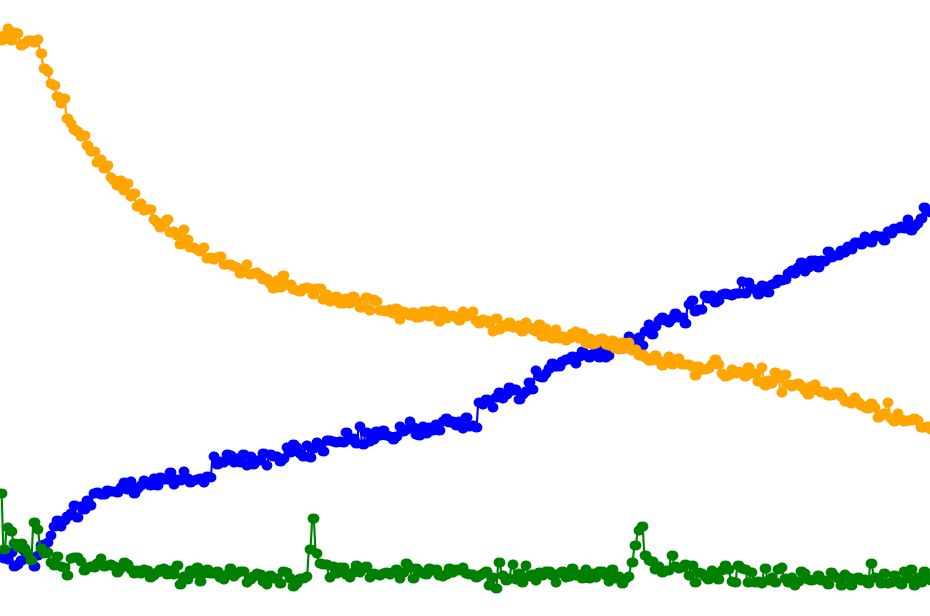Condensation (CO2): (79, 0, 159, 616), (159, 0, 239, 616)
High CO2: (797, 0, 930, 616)
High O2: (318, 0, 677, 616), (797, 0, 930, 616), (677, 0, 797, 616)
Low CO2: (318, 0, 677, 616), (677, 0, 797, 616)
Low O2: (677, 0, 930, 616)
Normal: (318, 0, 930, 616), (79, 0, 677, 616), (677, 0, 930, 616), (79, 0, 318, 616), (0, 0, 159, 616), (159, 0, 318, 616), (797, 0, 930, 616), (79, 0, 159, 616), (159, 0, 239, 616), (0, 0, 79, 616), (239, 0, 318, 616)
